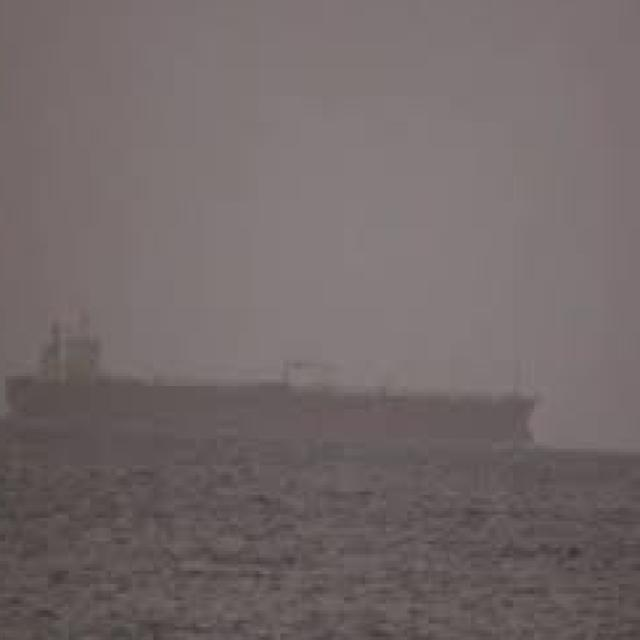cargoship: (5, 311, 542, 452)
